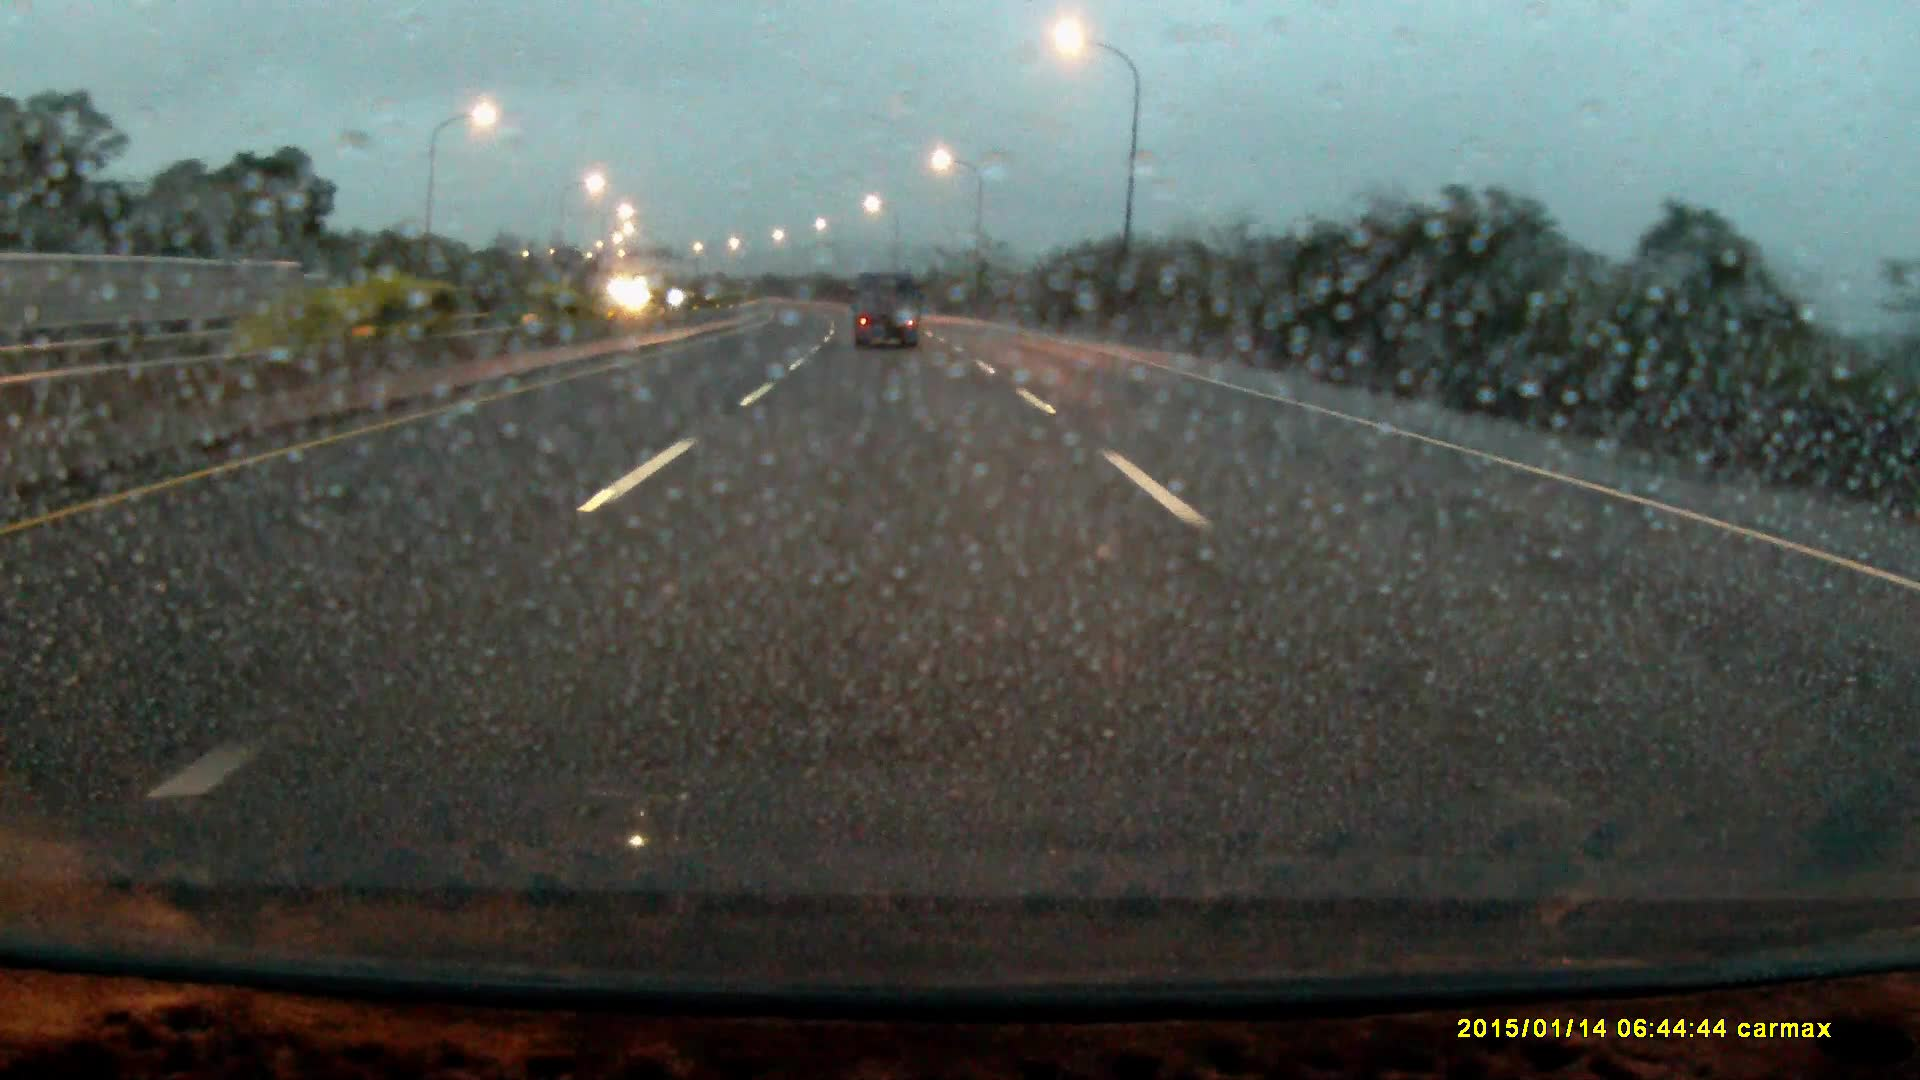vehicle: (852, 272, 922, 352)
